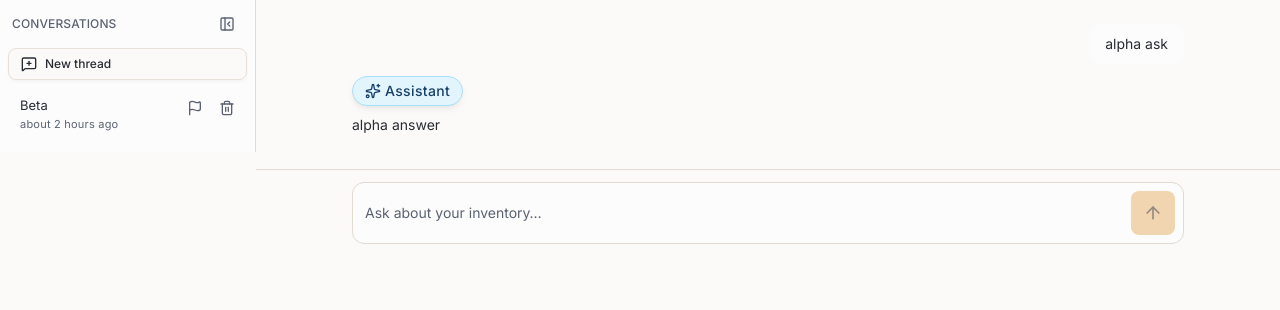
Test: AssistantPage — switching threads (spec C5 skeleton + load error) › a load failure KEEPS the current thread mounted and offers retry
Expected: the text "alpha ask" is shown, left=1105, top=35, right=1168, bottom=52
Click the button with test id "thread-item-t2" at {"x": 128, "y": 114}, box left=8, top=88, right=247, bottom=140
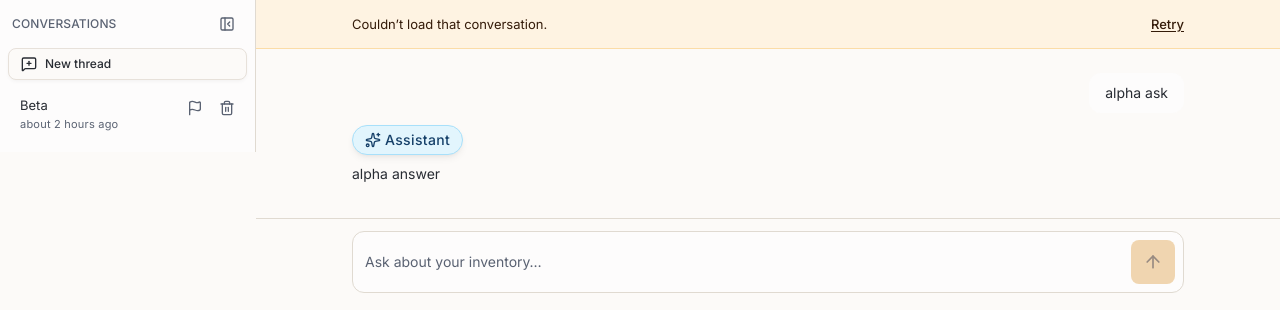
Expected: the text "alpha ask" is shown, left=1105, top=84, right=1168, bottom=101
Now the text "Couldn’t load that conversation." is shown, box left=352, top=15, right=547, bottom=33
Click the button "Retry" at {"x": 1168, "y": 24}, box left=1151, top=8, right=1184, bottom=40
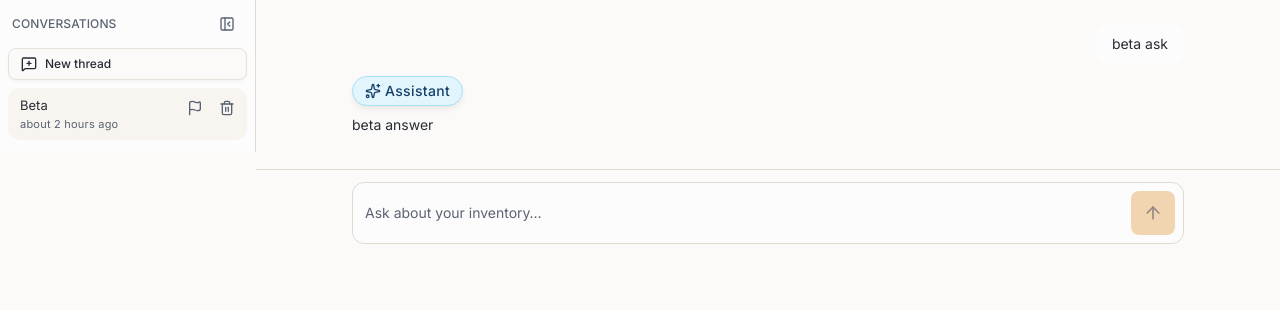
Now the text "beta ask" is shown, box left=1112, top=35, right=1168, bottom=52
Now the text "Couldn’t load that conversation" is gone
